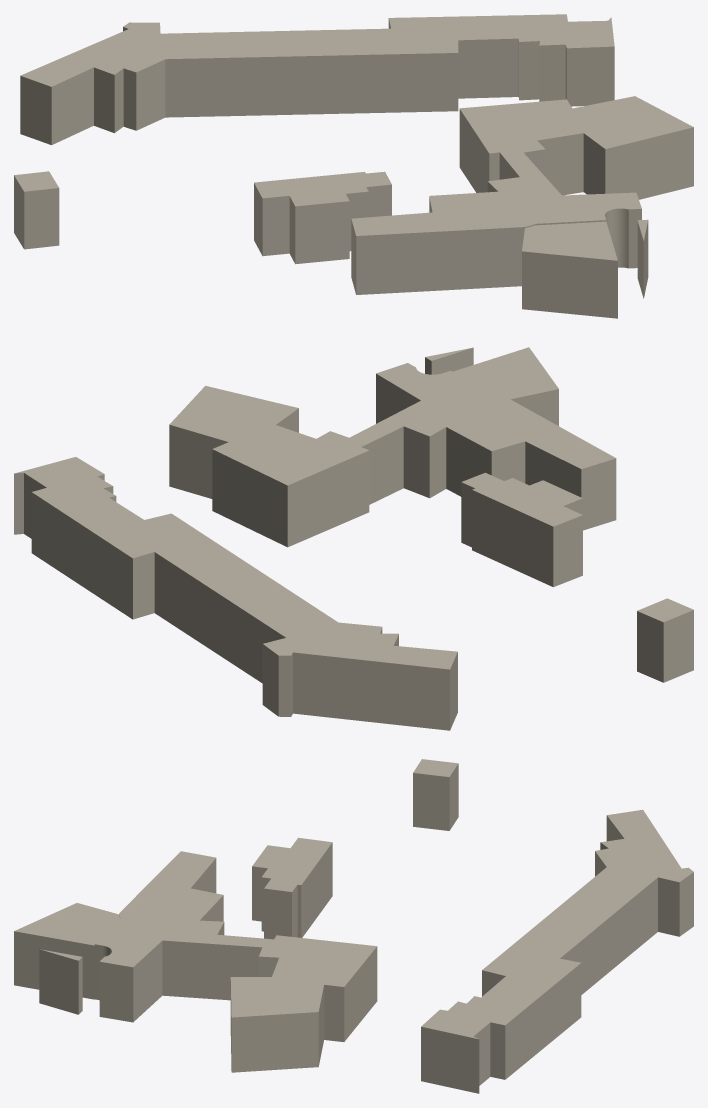
The model's file is birgu_58_23_collision.glb.
The picture shows the model from 3 angles, top to bottom: view 1: azimuth 30°, elevation 25°; view 2: azimuth 150°, elevation 25°; view 3: azimuth 270°, elevation 25°; orthographic projection. The views are drawn at different scales.
Visible parts, largest first — view 1: geometry_0; view 2: geometry_0; view 3: geometry_0.
Part boxes in pixels (x1,y1,x2,y2): geometry_0: [14, 14, 693, 318]; geometry_0: [14, 347, 693, 730]; geometry_0: [14, 759, 693, 1093].
Bounding box in the file's own units: 114 × 10.63 × 116.
